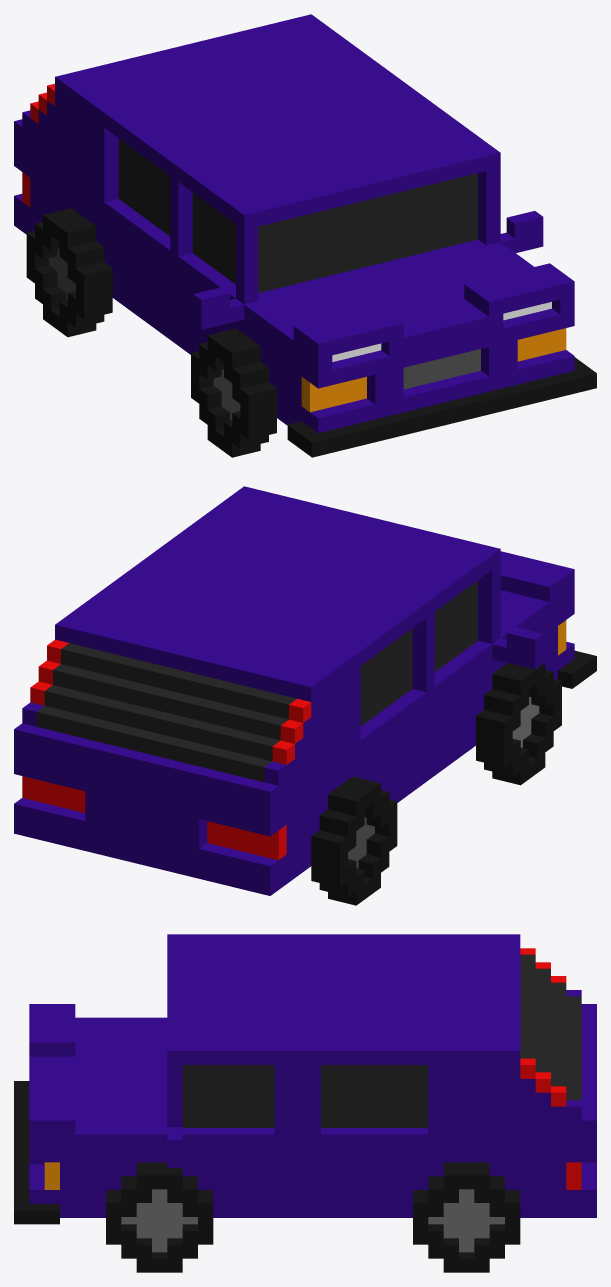
The model's file is Purpulecarassets.vox.obj.
3 renders of one model, top to bottom at view 1: azimuth 30°, elevation 25°; view 2: azimuth 150°, elevation 25°; view 3: azimuth 270°, elevation 25°, orthographic. The views are drawn at different scales.
Bounding box in the file's own units: 2.4 × 1.5 × 3.8.
Materials: 1 (1 with a texture image).
